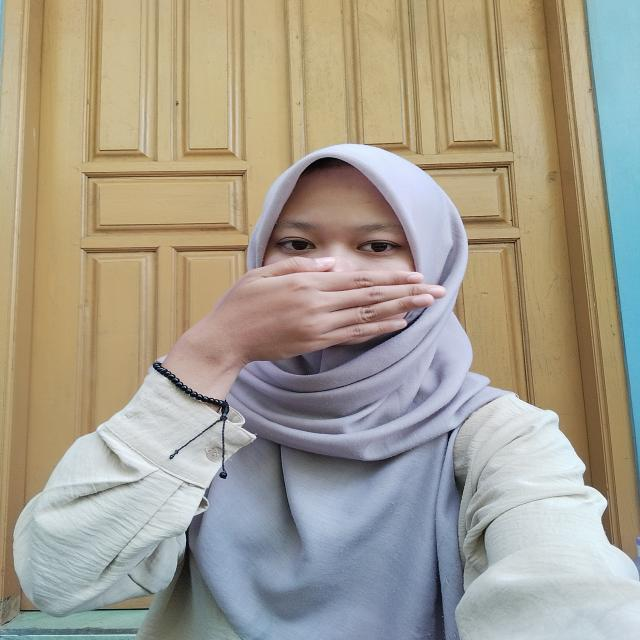buruk: (188, 242, 450, 372)
